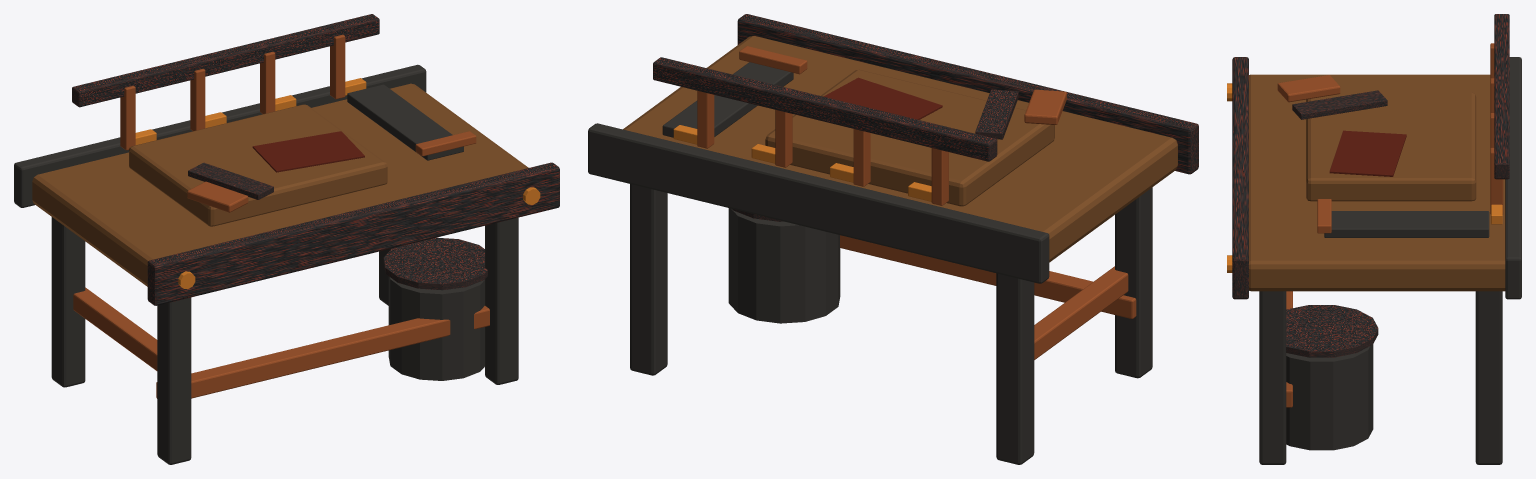
The model's file is butcher_table.glb.
3 views of the same model, side by side, from view 1: azimuth 30°, elevation 25°; view 2: azimuth 150°, elevation 25°; view 3: azimuth 270°, elevation 25° (orthographic). The views are drawn at different scales.
Parts seen in each view (by area): view 1: Butcher timber top, Butcher steel front rim, Thick cutting block, Catch bucket, Low cross brace, Butcher hook rail, Butcher table leg, Butcher table leg.002, Butcher table leg.001, Butcher steel back rim, Bucket wire handle, Drain channel (+9 smaller); view 2: Butcher timber top, Butcher steel back rim, Thick cutting block, Catch bucket, Butcher steel front rim, Butcher hook rail, Butcher table leg.001, Butcher table leg.003, Butcher table leg, Low cross brace, Side cross brace, Drain channel (+8 smaller); view 3: Butcher timber top, Thick cutting block, Catch bucket, Butcher table leg.002, Butcher table leg.003, Drain channel, Bucket wire handle, Butcher steel front rim, Butcher steel back rim, Old cutting stain, Butcher hook rail, Cleaver blade (+3 smaller).
Part boxes in pixels (box(x1,y1,x2,y2)): Butcher timber top: box(32, 83, 528, 286); Butcher steel front rim: box(147, 162, 559, 305); Thick cutting block: box(129, 104, 387, 226); Catch bucket: box(388, 276, 484, 380); Low cross brace: box(156, 306, 489, 398); Butcher hook rail: box(72, 14, 379, 107); Butcher table leg: box(157, 297, 191, 464); Butcher table leg.002: box(485, 217, 518, 384); Butcher table leg.001: box(51, 217, 85, 387); Butcher steel back rim: box(14, 64, 426, 207); Bucket wire handle: box(383, 237, 487, 290); Drain channel: box(347, 84, 463, 160); Butcher timber top: box(623, 36, 1177, 262); Butcher steel back rim: box(588, 123, 1049, 283); Thick cutting block: box(765, 69, 1054, 206); Catch bucket: box(728, 208, 840, 323); Butcher steel front rim: box(737, 14, 1198, 174); Butcher hook rail: box(653, 57, 997, 161); Butcher table leg.001: box(996, 273, 1034, 464); Butcher table leg.003: box(630, 184, 667, 375); Butcher table leg: box(1115, 187, 1152, 378); Low cross brace: box(840, 235, 1136, 318); Side cross brace: box(1034, 266, 1128, 359); Drain channel: box(662, 62, 793, 137); Butcher timber top: box(1249, 74, 1505, 291); Thick cutting block: box(1306, 92, 1476, 201); Catch bucket: box(1286, 344, 1373, 450); Butcher table leg.002: box(1259, 291, 1286, 464); Butcher table leg.003: box(1475, 291, 1502, 464); Drain channel: box(1324, 211, 1489, 237); Bucket wire handle: box(1286, 305, 1378, 357); Butcher steel front rim: box(1232, 57, 1248, 299); Butcher steel back rim: box(1505, 57, 1521, 299); Old cutting stain: box(1329, 130, 1406, 176); Butcher hook rail: box(1494, 14, 1509, 179); Cleaver blade: box(1292, 90, 1387, 119).
Size of the model in its own units: 1.86 by 1.25 by 1.15.
Materials: 6 (1 with a texture image).
